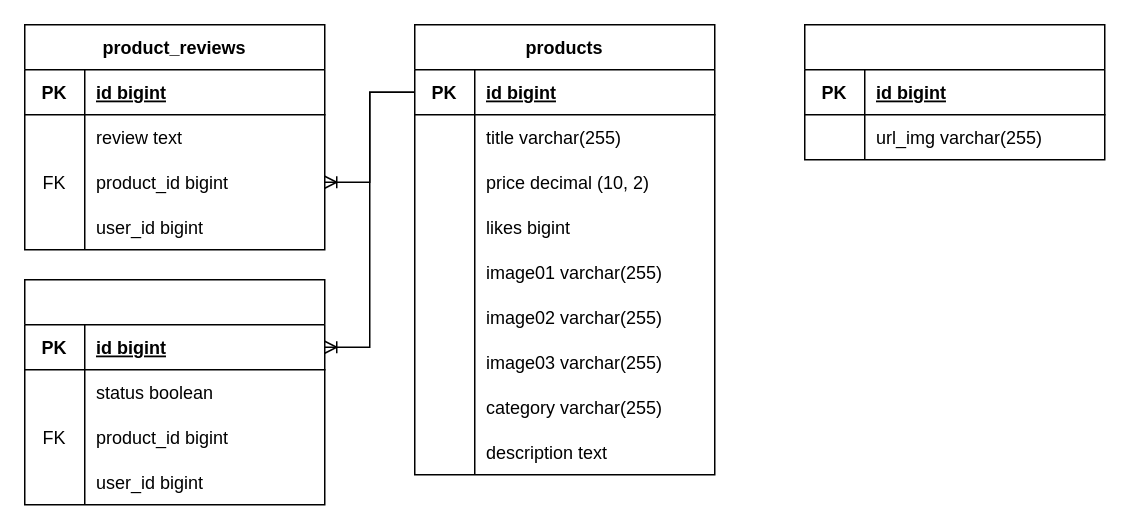
The diagram is 1130 pixels wide and 530 high, and some of its shapes have lost their labels. Each missing label, with the box of its shape:
product_status_likes: (23, 278, 325, 505)
slider_images: (803, 23, 1105, 160)
